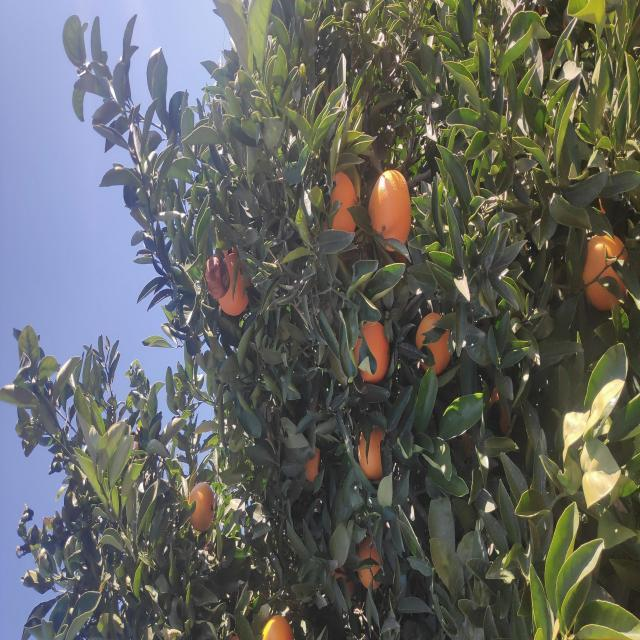Jeruk Sudah Matang: (386, 370, 472, 412), (331, 583, 406, 629), (266, 415, 328, 453), (262, 352, 323, 390), (326, 218, 389, 252), (398, 330, 472, 358), (163, 356, 216, 384), (52, 357, 104, 382), (112, 189, 155, 214), (0, 262, 25, 294), (156, 306, 199, 323)
